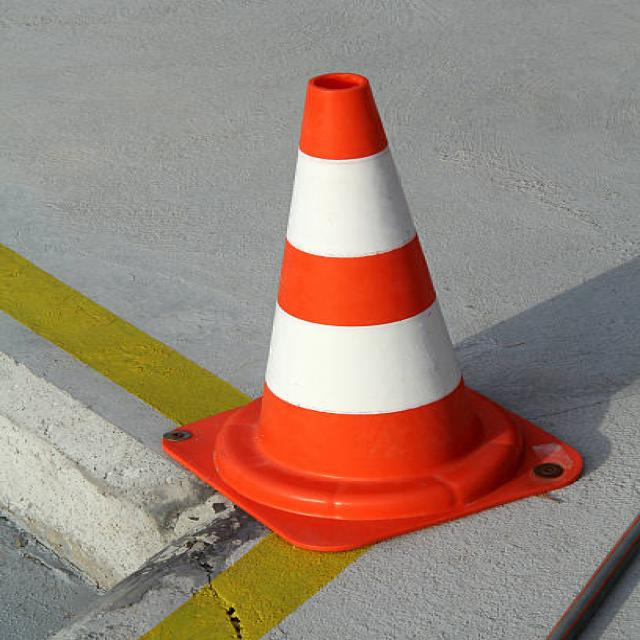Traffic Cone: (110, 49, 609, 559)
